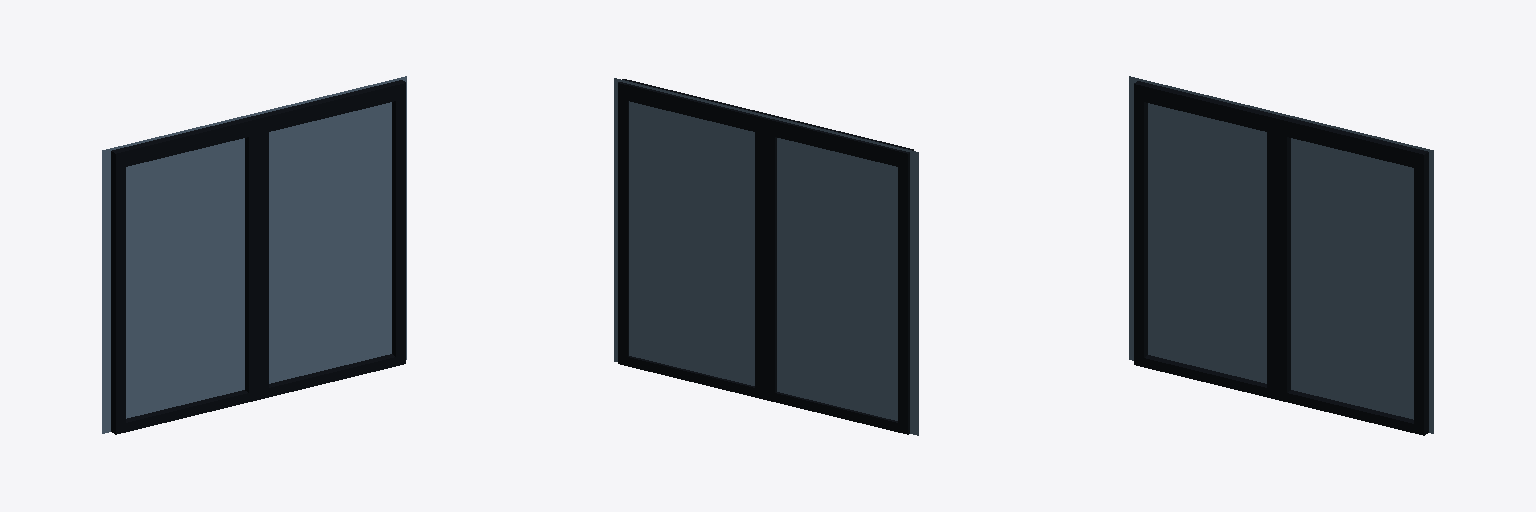
File: chuang12.obj
3 views of the same model, side by side, from view 1: azimuth 30°, elevation 25°; view 2: azimuth 150°, elevation 25°; view 3: azimuth 330°, elevation 25° (orthographic).
Parts seen in each view (by area): view 1: Rectangle[number redacted], Rectangle[number redacted]; view 2: Rectangle[number redacted], Rectangle[number redacted]; view 3: Rectangle[number redacted], Rectangle[number redacted].
Boxes of the visible parts, x1=… form: Rectangle[number redacted]: x1=102, y1=76, x2=406, y2=433; Rectangle[number redacted]: x1=111, y1=80, x2=405, y2=434; Rectangle[number redacted]: x1=614, y1=78, x2=918, y2=435; Rectangle[number redacted]: x1=618, y1=79, x2=913, y2=434; Rectangle[number redacted]: x1=1129, y1=76, x2=1433, y2=433; Rectangle[number redacted]: x1=1134, y1=81, x2=1428, y2=435.
Bounding box in the file's own units: 18 × 16 × 0.6.